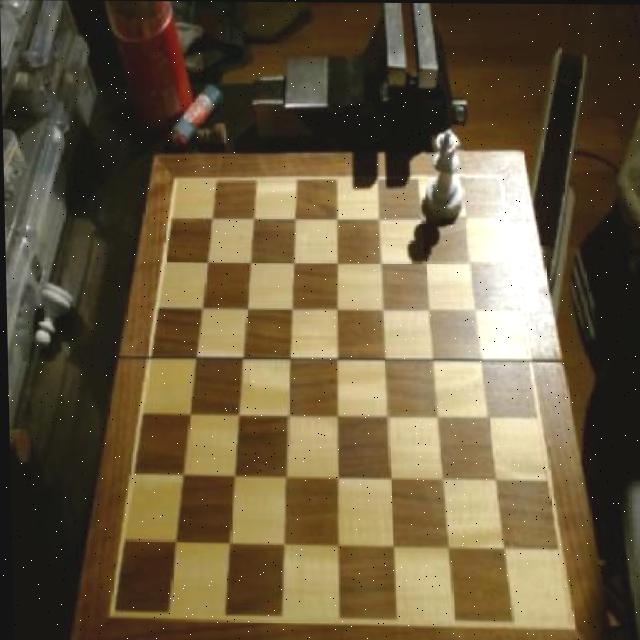white-pawn: (425, 130, 467, 226)
